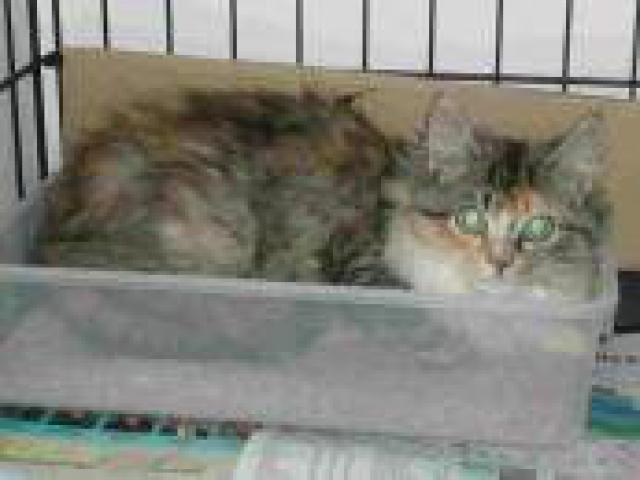cat: (68, 56, 619, 367)
